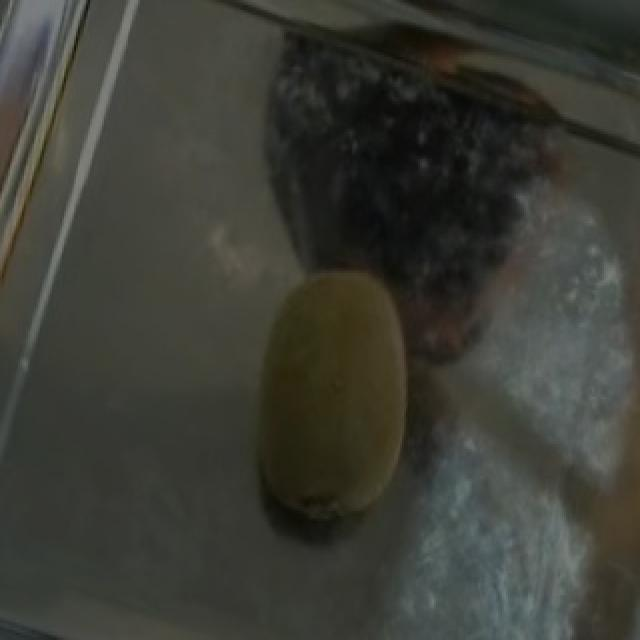Fruit: (212, 238, 450, 558)
